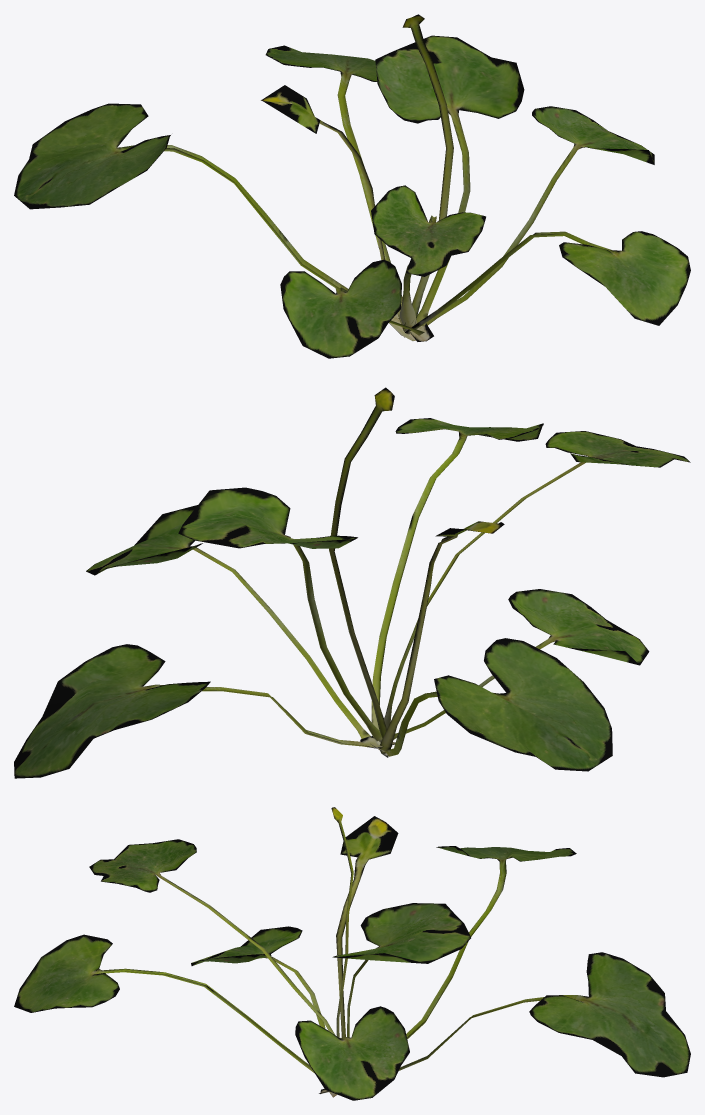
File: celandine_01_v2.glb
The picture shows the model from 3 angles, top to bottom: view 1: azimuth 30°, elevation 25°; view 2: azimuth 150°, elevation 25°; view 3: azimuth 270°, elevation 25°; orthographic projection. The views are drawn at different scales.
Parts seen in each view (by area): view 1: lod0; view 2: lod0; view 3: lod0.
Part boxes in pixels (<box>): lod0: <box>14,14,690,358</box>; lod0: <box>14,387,690,778</box>; lod0: <box>14,807,690,1100</box>.
Size of what is drawn, in the model's own units: 0.2517 by 0.1445 by 0.3067.
Materials: 1 (1 with a texture image).
